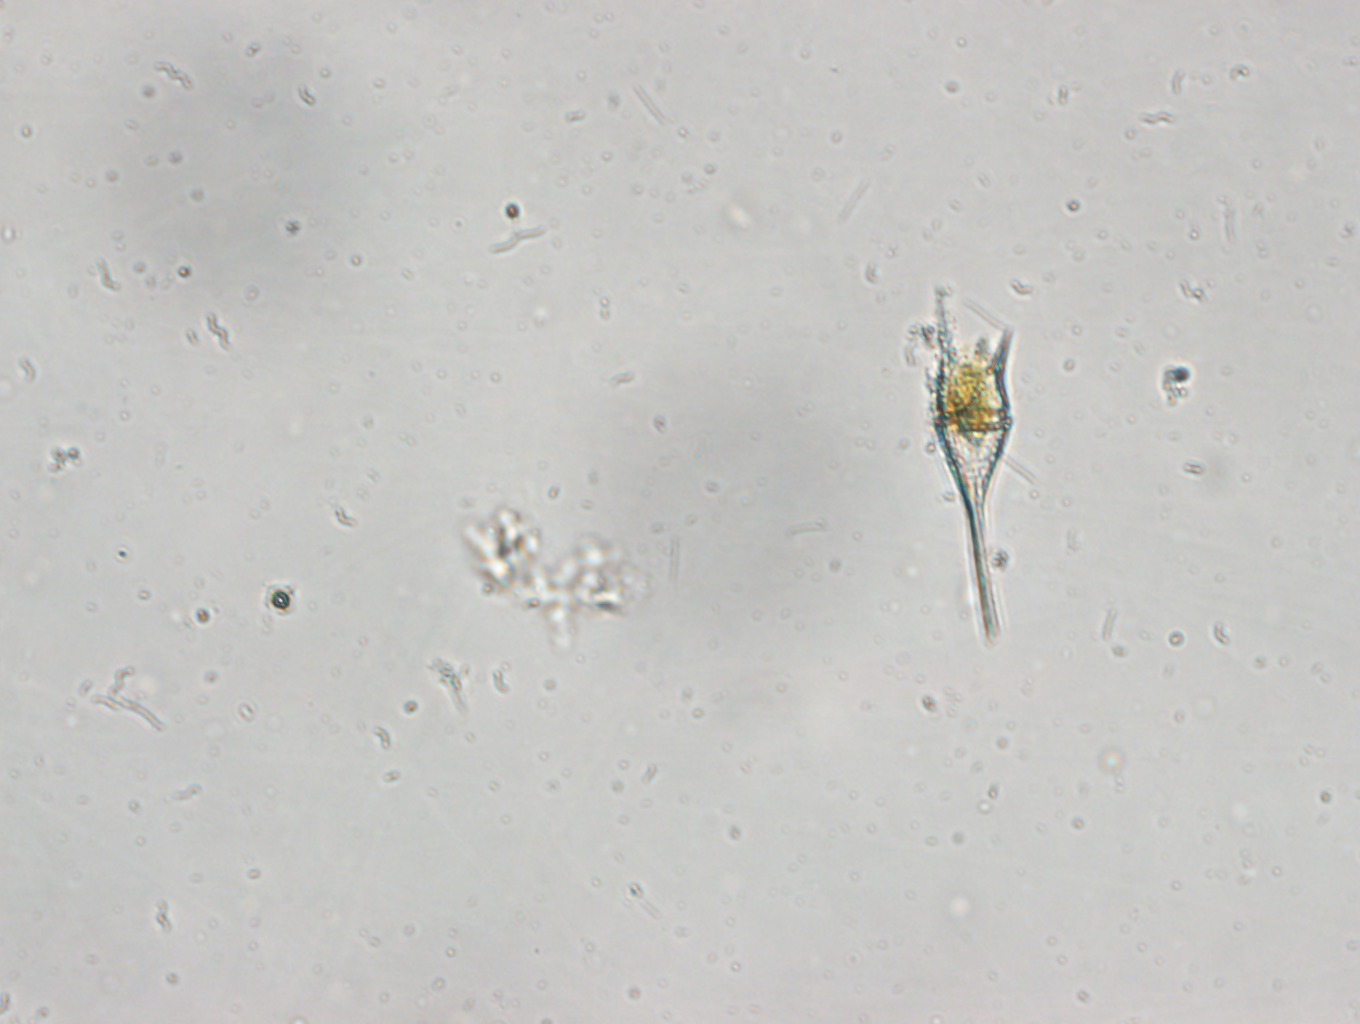ceratium furca: (926, 280, 1025, 645)
